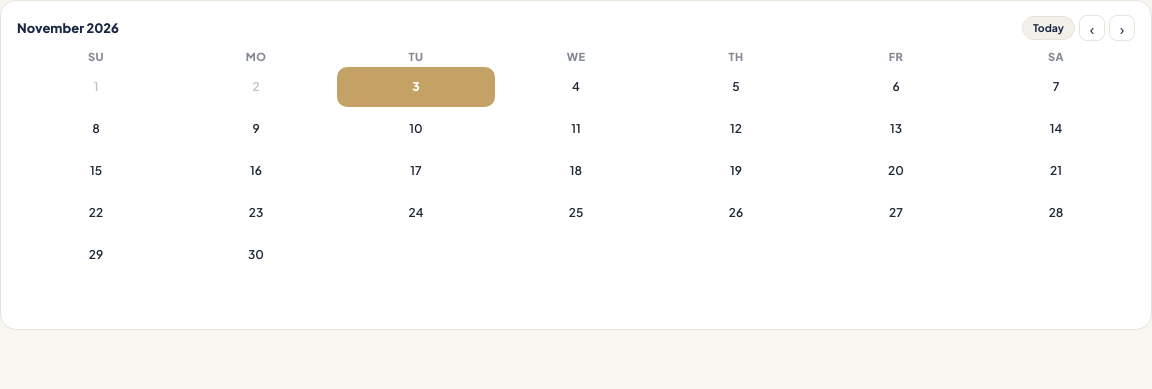
Test: minDate restriction snaps visibly with helper (never silent)
Click the button with aria-label "Go to today": (1048,28) [1022,16,1075,40]
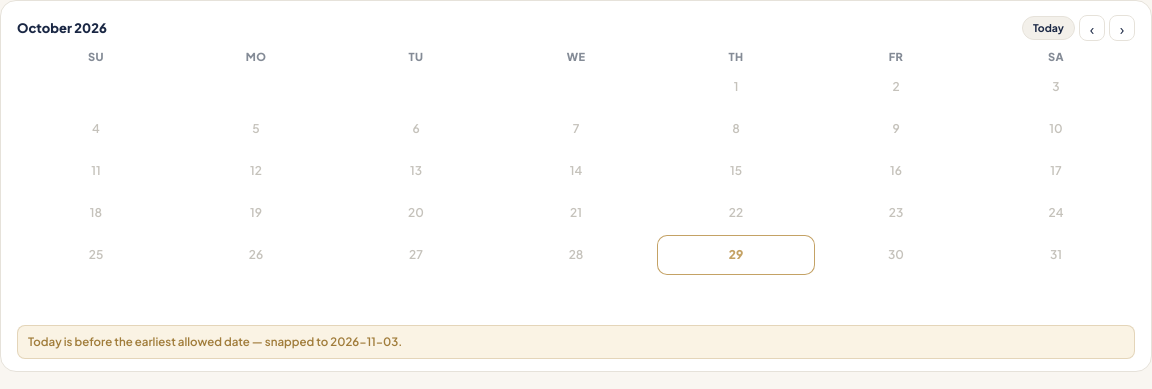
Result: the text "Today is before the earliest allowed date — snapped to 2026-11-03." is shown at [17,325,1135,359]
